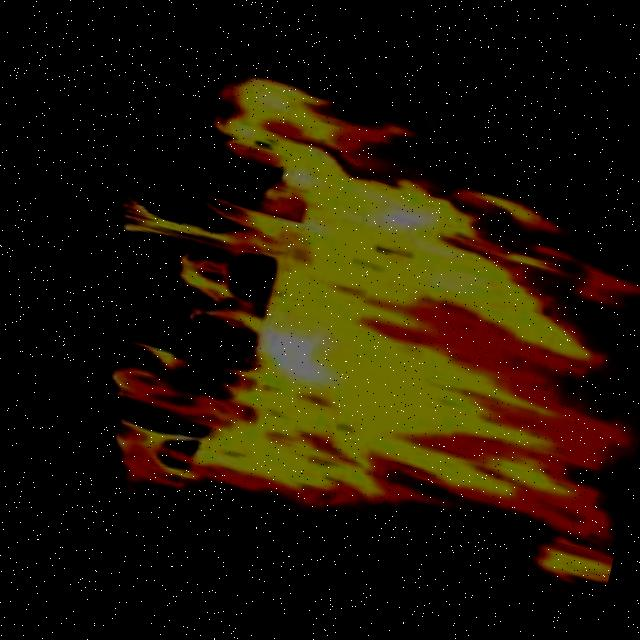Fire: (26, 34, 640, 629)
